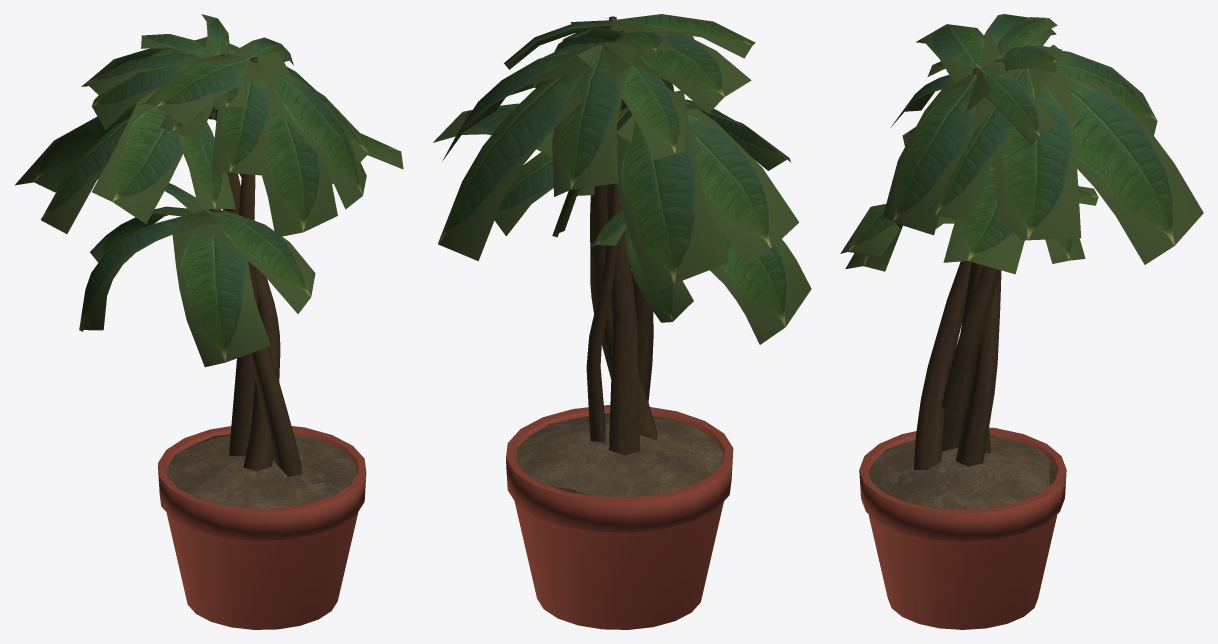
File: big_plant.dae
3 renders of one model, left to right at view 1: azimuth 30°, elevation 25°; view 2: azimuth 150°, elevation 25°; view 3: azimuth 270°, elevation 25°, orthographic. The views are drawn at different scales.
Parts seen in each view (by area): view 1: eb_house_plant_03.001; view 2: eb_house_plant_03.001; view 3: eb_house_plant_03.001.
Part boxes in pixels (box(x1,y1,x2,y2)): eb_house_plant_03.001: box(15, 14, 403, 629); eb_house_plant_03.001: box(433, 14, 811, 629); eb_house_plant_03.001: box(840, 14, 1203, 629).
Size of the model in its own units: 0.7481 by 0.7326 by 1.21.
Materials: 1 (1 with a texture image).
